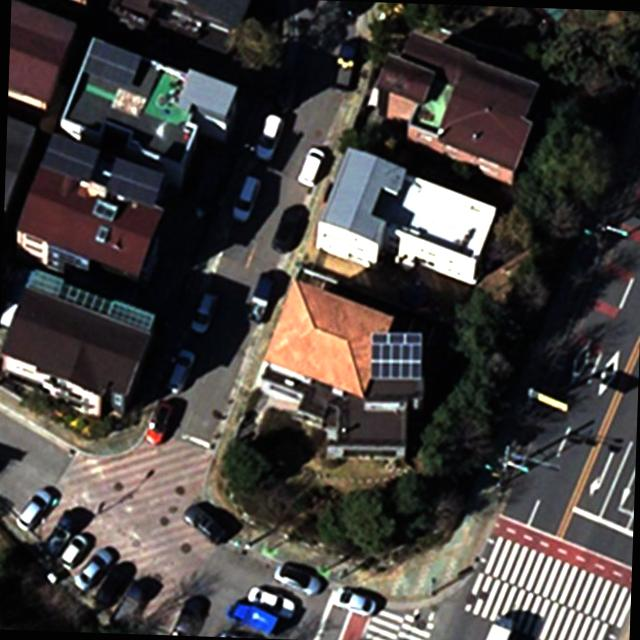solar: (80, 34, 143, 92), (367, 326, 425, 384), (102, 156, 166, 208), (38, 131, 100, 183)
